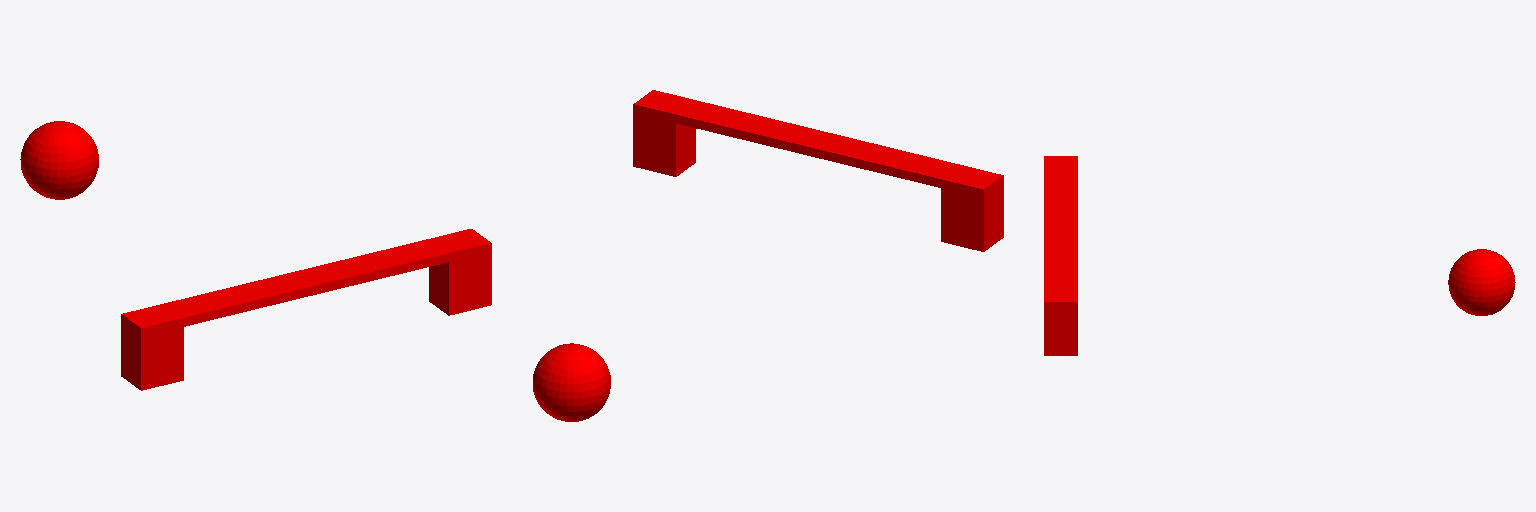
The robot description file, URDF, robot "gate":
<?xml version="1.0" ?>
<robot name = "gate">


    <link name = "base_left">
        <visual>
            <origin xyz = "-0.9 0 0.175" rpy = "0 0 0"/>
 
            <geometry>
                <box size = "0.25 0.2 0.35"/>
            </geometry>
            <material name = "red">
                <color rgba = "1 0 0 0"/>
            </material>    
        </visual>
        <collision>
            <origin xyz = "-0.9 0 0.175" rpy = "0 0 0"/>
            <geometry>
                <box size = "0.25 0.2 0.35"/>
            </geometry>
            <!-- <origin xyz = "-0.9 0 0.15" rpy = "0 0 0"/> -->
        </collision>
        <inertial>
            <mass value="20"/>
            <inertia ixx="0.01" ixy="0.0" ixz="0.0" iyy="0.01" iyz="0.0" izz="0.01"/>
          </inertial>
      
    </link> 


    <link name = "base_up">
        <visual>
            <origin xyz = "0 0 0.325" rpy = "0 0 0"/>
            <geometry>
                <box size = "1.8 0.2 0.05"/>
            </geometry>
            <!-- <origin xyz = "0 0 0.275" rpy = "0 0 0"/> -->
            <material name = "red">
                <color rgba = "1 0 0 0"/>
            </material>    

        </visual>
        <collision>
            <origin xyz = "0 0 0.325" rpy = "0 0 0"/>
            <geometry>
                <box size = "1.8 0.2 0.05"/>
            </geometry>
            <!-- <origin xyz = "0 0 0.275" rpy = "0 0 0"/> -->
        </collision>
        <inertial>
            <mass value="20"/>
            <inertia ixx="0.01" ixy="0.0" ixz="0.0" iyy="0.01" iyz="0.0" izz="0.01"/>
          </inertial>
      
    </link> 


    <joint name = "base_ji_left" type = 'fixed'>
        <parent link = "base_left"/>
        <child link = "base_up"/>
        <origin xyz = "0 0 0" rpy = "0 0 0"/>
    </joint>

    <link name = "base_right">
        <visual>
            <origin xyz = "0.9 0 0.175" rpy = "0 0 0"/>
            <geometry>
                <box size = "0.25 0.2 0.35"/>
            </geometry>
            <material name = "red">
                <color rgba = "1 0 0 0"/>
            </material>    
            <!-- <origin xyz = "0.9 0 0.15" rpy = "0 0 0"/> -->
        </visual>
        <collision>
            <origin xyz = "0.9 0 0.175" rpy = "0 0 0"/>
            <geometry>
                <box size = "0.25 0.2 0.35"/>
            </geometry>
            
        </collision>
        <inertial>
            <mass value="20"/>
            <inertia ixx="0.01" ixy="0.0" ixz="0.0" iyy="0.01" iyz="0.0" izz="0.01"/>
          </inertial>
      
    </link> 

    <joint name = "base_ji_right" type = 'fixed'>
        <parent link = "base_up"/>
        <child link = "base_right"/>
        <origin xyz = "0 0 0" rpy = "0 0 0"/>
    </joint>

  <link name="ball">
    <visual>
      <origin xyz="0 2.5 0"/>
      <geometry>
        <sphere radius="0.2"/>
      </geometry>
            <material name = "red">
                <color rgba = "1 0 0 0"/>
            </material>    
    </visual>
    <collision>
      <origin xyz="0 2.5 0"/>
      <geometry>
        <sphere radius="0.2"/>
      </geometry>
    </collision>
    <inertial>
      <mass value="0.5"/>
      <inertia ixx="0.01" ixy="0.0" ixz="0.0" iyy="0.01" iyz="0.0" izz="0.01"/>
    </inertial>
  </link>


    <joint name = "base_ji_back" type = 'fixed'>
        <parent link = "base_up"/>
        <child link = "ball"/>
        <origin xyz = "0 0 0" rpy = "0 0 0"/>
    </joint>

    


</robot>

--- What the picture shows (computed from the rendered views, not written in the file) ---
Views: 3 orthographic renders of the robot side by side, from view 1: azimuth 30°, elevation 25°; view 2: azimuth 150°, elevation 25°; view 3: azimuth 270°, elevation 25°.
Model gate with 4 links and 3 joints (3 fixed), rooted at base_left, posed every joint at zero.
Links seen in each view (by area): view 1: base_up, ball, base_left, base_right; view 2: base_up, ball, base_left, base_right; view 3: base_up, ball, base_right.
Boxes of the visible links, bbox=[...] form: base_up: bbox=[144, 234, 469, 331]; ball: bbox=[20, 121, 98, 199]; base_left: bbox=[121, 304, 183, 390]; base_right: bbox=[429, 229, 491, 315]; base_up: bbox=[655, 95, 959, 187]; ball: bbox=[533, 343, 610, 421]; base_left: bbox=[941, 165, 1003, 251]; base_right: bbox=[633, 90, 695, 176]; base_up: bbox=[1044, 165, 1077, 292]; ball: bbox=[1448, 249, 1515, 315]; base_right: bbox=[1044, 284, 1077, 355].
Size in the robot's own frame: 2.05 by 2.8 by 0.55 metres.
Geometry: primitives only (box / cylinder / sphere), no mesh files.